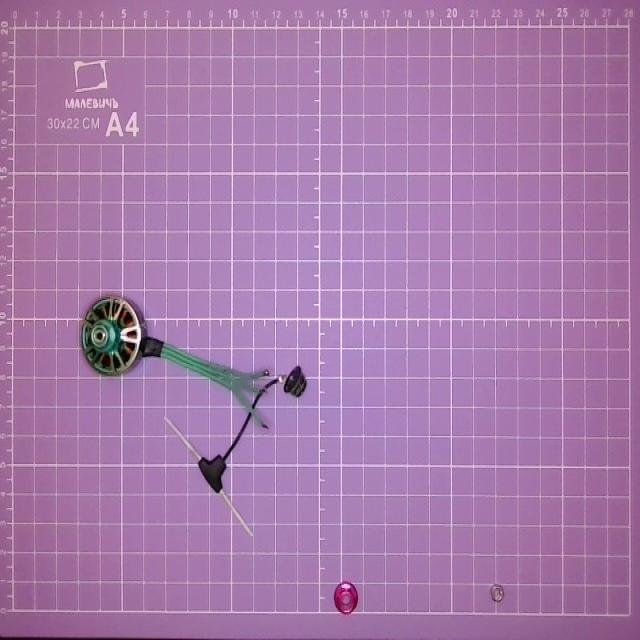antenna: (161, 370, 281, 537)
motor: (70, 289, 276, 432)
screw_M3: (482, 580, 514, 605)
screw_M5: (282, 356, 309, 405), (330, 578, 361, 620)
